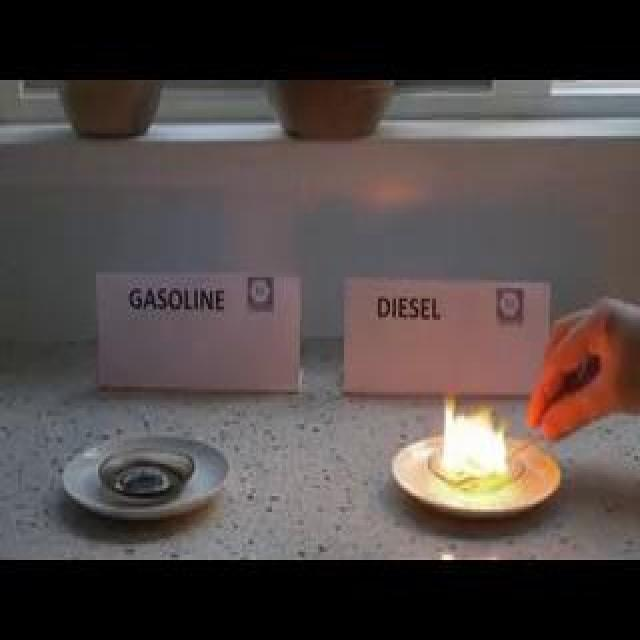Fire: (442, 407, 513, 492)
